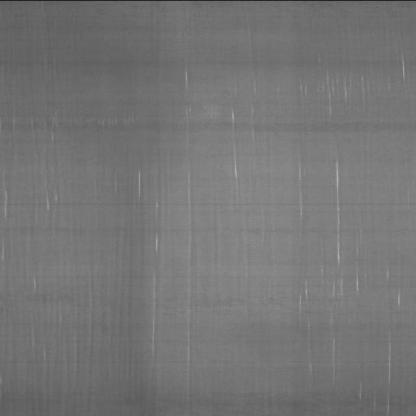waist_folding: (61, 118, 397, 345)
